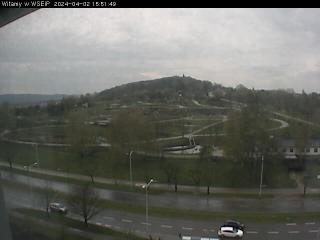car: (218, 225, 244, 240), (224, 219, 245, 232), (49, 201, 68, 215)
